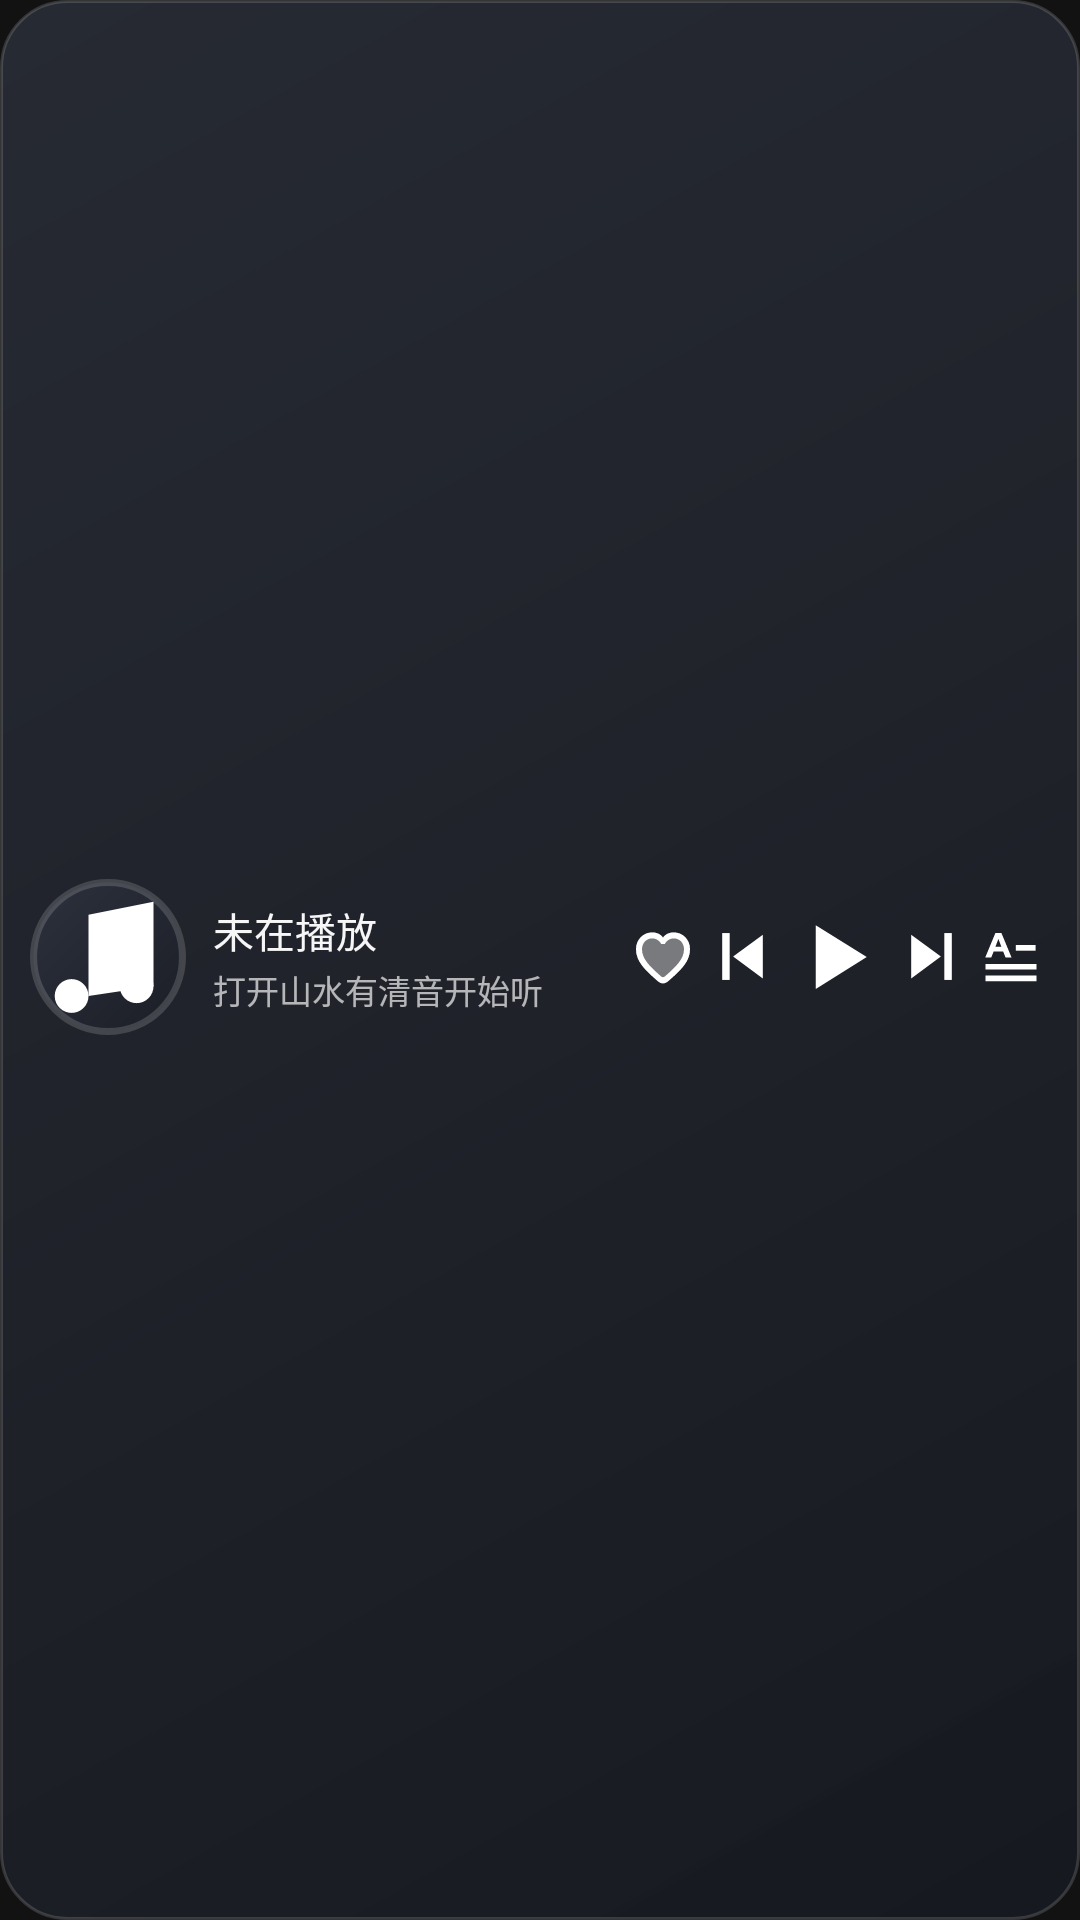

Locate icon controls on the screen. Image size 1080w x 1920h, boxes as bbox=[x1, y1, x2, y2].
上一首: bbox=[722, 933, 763, 980]
下一首: bbox=[911, 933, 952, 980]
播放或暂停: bbox=[815, 925, 867, 989]
收藏或取消收藏: bbox=[636, 932, 690, 984]
显示或隐藏歌词: bbox=[985, 933, 1037, 982]
